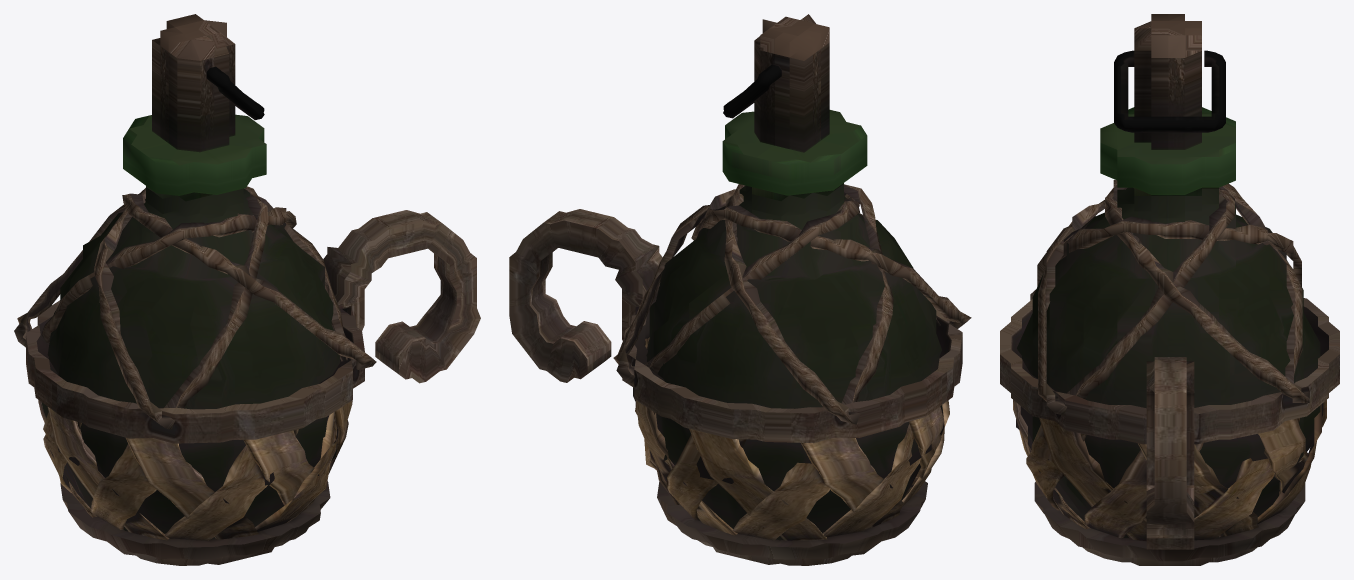
Rendered from medieval_flask_drako_5_compressed.glb.
3 renders of one model, left to right at view 1: azimuth 30°, elevation 25°; view 2: azimuth 150°, elevation 25°; view 3: azimuth 270°, elevation 25°, orthographic.
Visible parts, largest first — view 1: bottle_low, handle_low, top_low, bottom_low, cord_low9, cord_low8, cord_low7, ribbon9_low4, ribbon10_low, cord_low6, ribbon10_low4, ribbon9_low (+4 smaller); view 2: bottle_low, handle_low, top_low, bottom_low, cord_low6, cord_low9, cord_low8, ribbon8_low, ribbon10_low6, ribbon9_low6, cord_low7, ribbon10_low5 (+5 smaller); view 3: bottle_low, top_low, handle_low, bottom_low, cord_low7, cord_low6, cord_low8, cord_low9, corkmetal_low, ribbon2_low, ribbon5_low, ribbon3_low (+5 smaller).
Part boxes in pixels (box(x1,y1,x2,y2)): bottle_low: box(41, 14, 340, 539); handle_low: box(323, 210, 480, 383); top_low: box(26, 300, 364, 443); bottom_low: box(60, 481, 330, 565); cord_low9: box(14, 186, 268, 408); cord_low8: box(94, 188, 347, 429); cord_low7: box(122, 193, 376, 369); ribbon9_low4: box(126, 438, 258, 539); ribbon10_low: box(165, 429, 298, 540); cord_low6: box(41, 207, 296, 342); ribbon10_low4: box(91, 444, 156, 529); ribbon9_low: box(243, 430, 319, 514); bottle_low: box(633, 14, 942, 540); handle_low: box(509, 209, 662, 405); top_low: box(622, 300, 962, 443); bottom_low: box(657, 481, 927, 565); cord_low6: box(613, 184, 893, 404); cord_low9: box(724, 184, 940, 424); cord_low8: box(691, 205, 971, 328); ribbon8_low: box(689, 429, 827, 540); ribbon10_low6: box(732, 462, 830, 540); ribbon9_low6: box(801, 437, 903, 528); cord_low7: box(645, 192, 859, 373); ribbon10_low5: box(823, 424, 920, 537); bottle_low: box(1016, 14, 1320, 537); top_low: box(1000, 298, 1339, 444); handle_low: box(1146, 357, 1194, 549); bottom_low: box(1034, 482, 1305, 565); cord_low7: box(1038, 183, 1302, 415); cord_low6: box(1105, 180, 1309, 403); cord_low8: box(1030, 188, 1234, 399); cord_low9: box(1037, 216, 1301, 286); corkmetal_low: box(1114, 50, 1225, 132); ribbon2_low: box(1039, 418, 1146, 541); ribbon5_low: box(1194, 418, 1299, 540); ribbon3_low: box(1084, 443, 1203, 538).
Size of the model in its own units: 14.27 by 15.98 by 9.93.
Materials: 1 (1 with a texture image).
